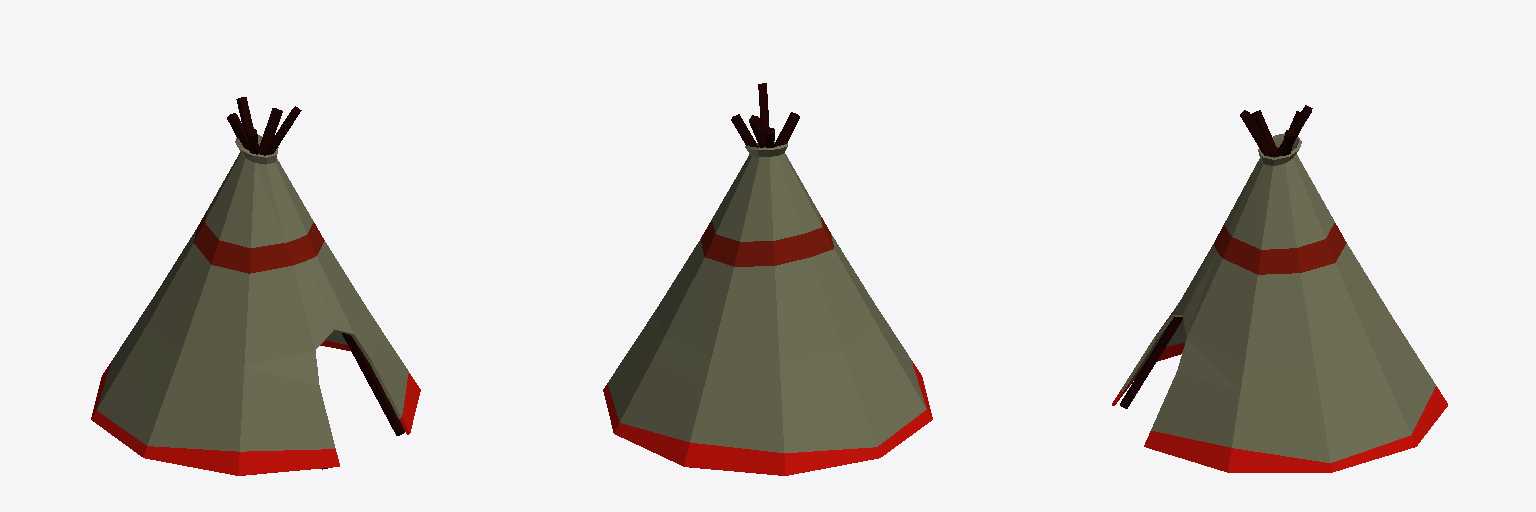
The model's file is nativeTent.obj.
3 views of the same model, side by side, from view 1: azimuth 30°, elevation 25°; view 2: azimuth 150°, elevation 25°; view 3: azimuth 270°, elevation 25° (orthographic).
Visible parts, largest first — view 1: Cube.006; view 2: Cube.006; view 3: Cube.006.
Boxes of the visible parts, box(x1,y1,x2,y2) form: Cube.006: box(91, 97, 420, 475); Cube.006: box(603, 83, 932, 475); Cube.006: box(1112, 105, 1447, 472).
Size of the model in its own units: 7.92 by 8.46 by 8.33.